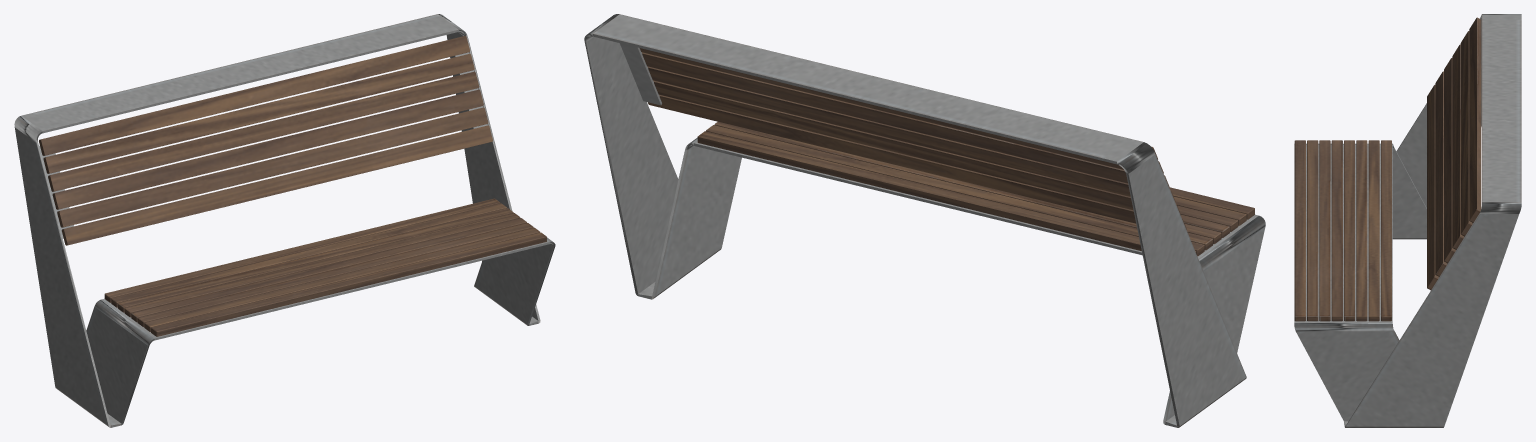
The model's file is bench.glb.
The picture shows the model from 3 angles, left to right: view 1: azimuth 30°, elevation 25°; view 2: azimuth 150°, elevation 25°; view 3: azimuth 270°, elevation 25°; orthographic projection. The views are drawn at different scales.
Parts seen in each view (by area): view 1: Luca3D_Modern_Bench_2_0; view 2: Luca3D_Modern_Bench_2_0; view 3: Luca3D_Modern_Bench_2_0.
Part boxes in pixels (x1,y1,x2,y2): Luca3D_Modern_Bench_2_0: (14, 14, 555, 427); Luca3D_Modern_Bench_2_0: (584, 14, 1265, 427); Luca3D_Modern_Bench_2_0: (1294, 14, 1521, 427).
Size of the model in its own units: 2.14 by 1.14 by 1.06.
1 material, 1 textured.
